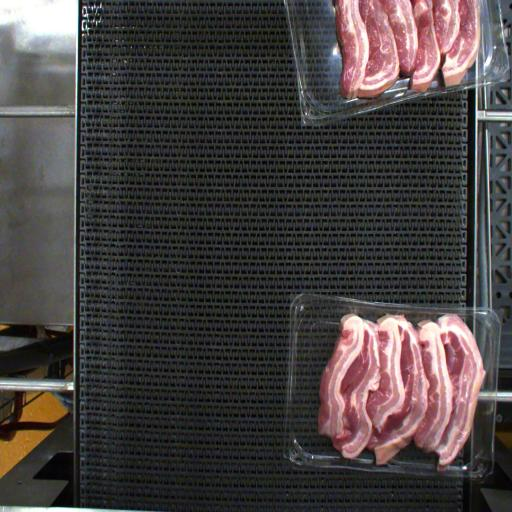packaging-error: (343, 304, 361, 318)
